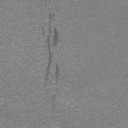red iron: (44, 37, 52, 82), (54, 28, 58, 46), (56, 64, 59, 79), (49, 14, 52, 22)
